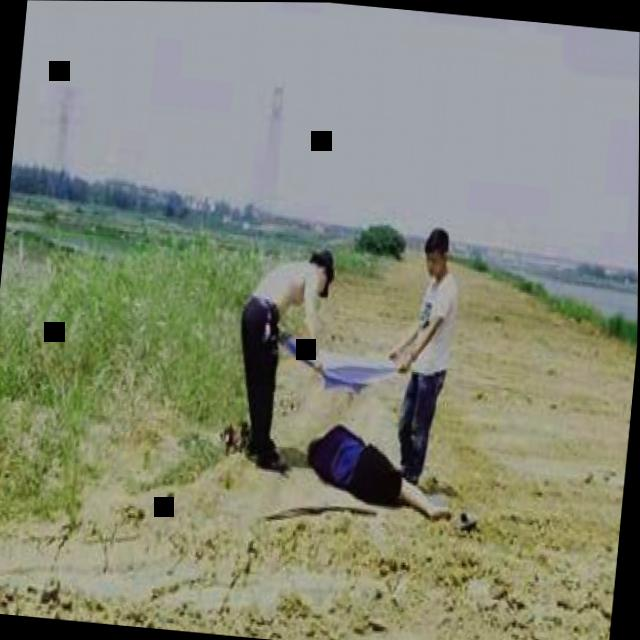Fall-Detected: (295, 408, 460, 526)
